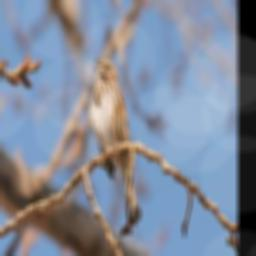Sparrow: (88, 54, 142, 227)
